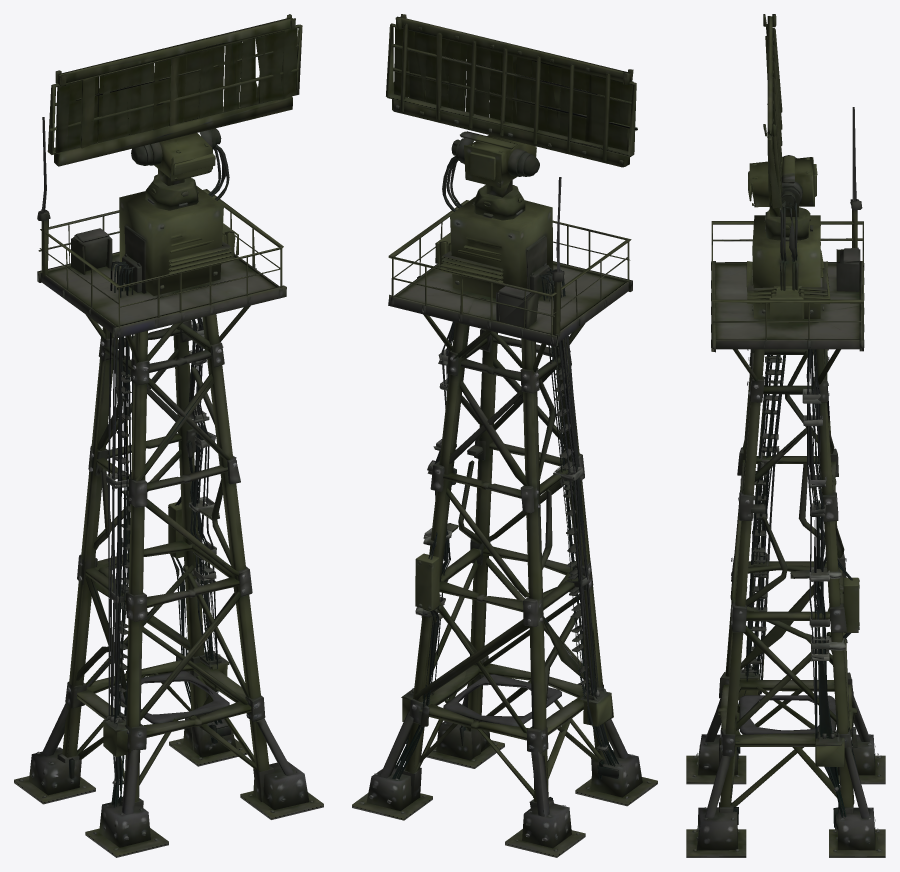
Rendered from radar_lattice.glb.
3 views of the same model, side by side, from view 1: azimuth 30°, elevation 25°; view 2: azimuth 150°, elevation 25°; view 3: azimuth 270°, elevation 25° (orthographic). The views are drawn at different scales.
Visible parts, largest first — view 1: radar_lattice; view 2: radar_lattice; view 3: radar_lattice.
Boxes of the visible parts, box(x1,y1,x2,y2) form: radar_lattice: box(14, 14, 323, 857); radar_lattice: box(352, 14, 657, 857); radar_lattice: box(686, 14, 885, 857).
Size of the model in its own units: 0.3306 by 0.9507 by 0.2329.
1 material, 1 textured.
